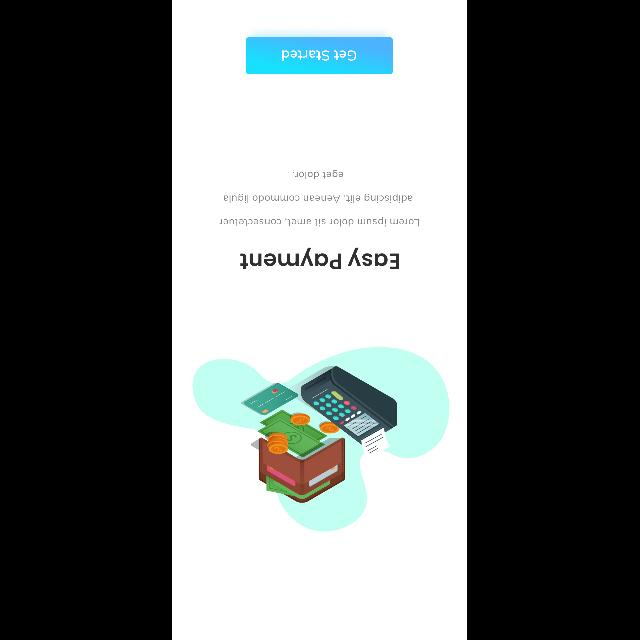image: (193, 346, 451, 532)
text: (220, 170, 420, 227), (240, 247, 400, 269)
textbutton: (246, 37, 394, 74)
